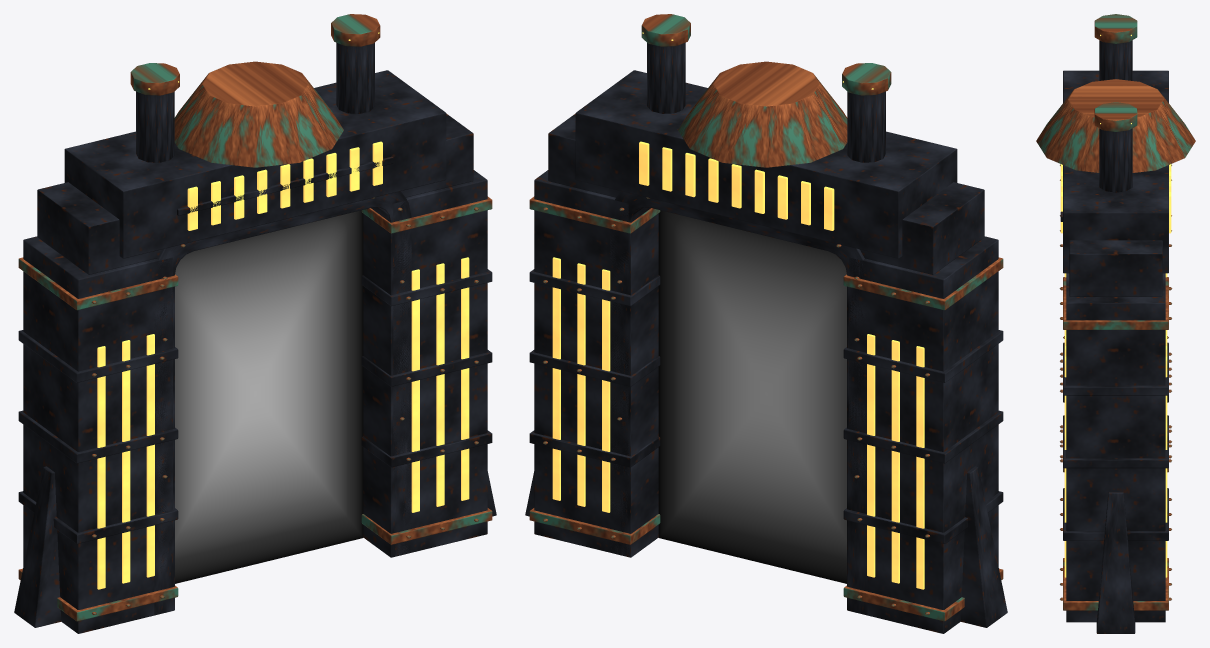
File: ember_foundry.glb
3 renders of one model, left to right at view 1: azimuth 30°, elevation 25°; view 2: azimuth 150°, elevation 25°; view 3: azimuth 270°, elevation 25°, orthographic. The views are drawn at different scales.
Parts seen in each view (by area): view 1: Frame, Veil; view 2: Frame, Veil; view 3: Frame, Frame_Detail.
Part boxes in pixels (x1,y1,x2,y2): Frame: [14, 14, 496, 633]; Veil: [175, 210, 363, 583]; Frame: [525, 14, 1007, 633]; Veil: [658, 210, 846, 583]; Frame: [1036, 14, 1195, 633]; Frame_Detail: [1059, 164, 1172, 600].
Size of the model in its own units: 3 by 3.2 by 0.9953.
4 materials, 3 textured.
